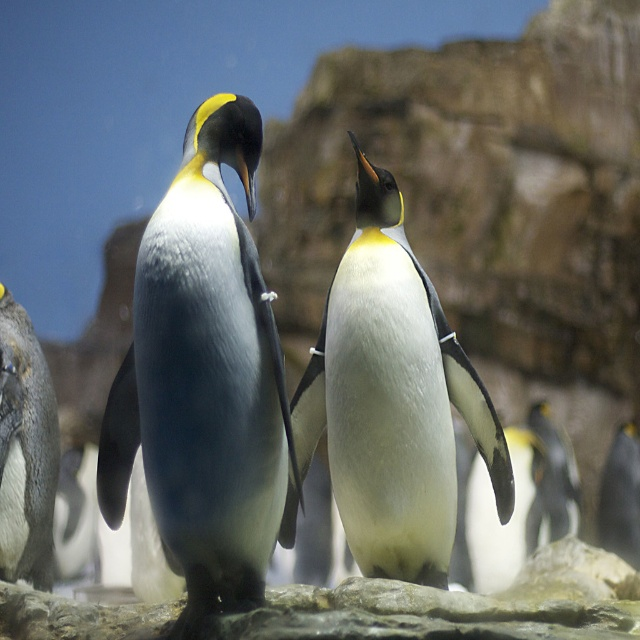Penguin: (0, 280, 640, 593), (96, 94, 307, 640), (285, 130, 517, 591)
